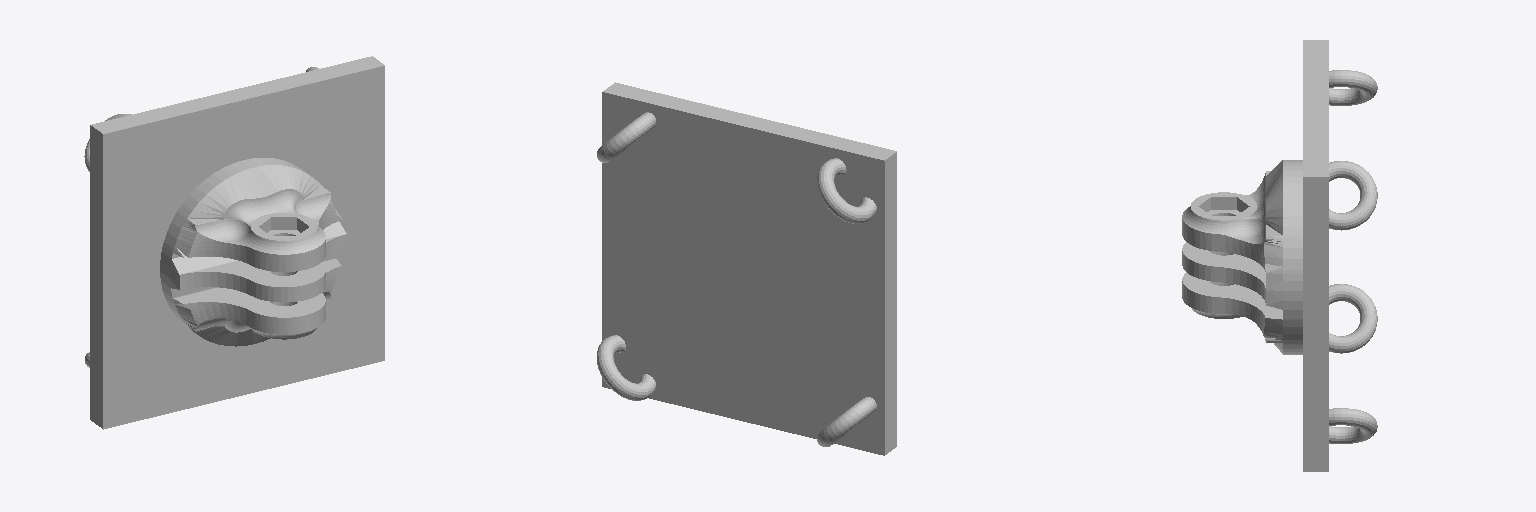
The model's file is plate_0001.obj.
3 renders of one model, left to right at view 1: azimuth 30°, elevation 25°; view 2: azimuth 150°, elevation 25°; view 3: azimuth 270°, elevation 25°, orthographic.
Parts seen in each view (by area): view 1: Tore_0.1; view 2: Tore_0.1; view 3: Tore_0.1.
Boxes of the visible parts, <box> form: Tore_0.1: <box>84,56,384,429</box>; Tore_0.1: <box>597,82,896,455</box>; Tore_0.1: <box>1182,40,1377,471</box>.
Size of the model in its own units: 5.66 by 5.66 by 3.4.